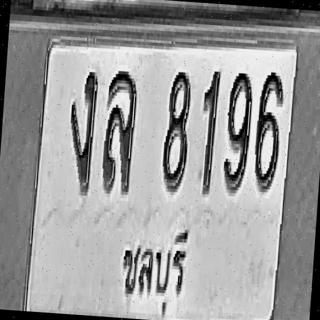A07: (65, 66, 99, 194)
A36: (100, 67, 138, 195)
N01: (197, 68, 220, 194)
N06: (252, 68, 284, 193)
N08: (160, 68, 193, 192)
N09: (222, 68, 253, 192)
P13: (115, 214, 192, 317)
